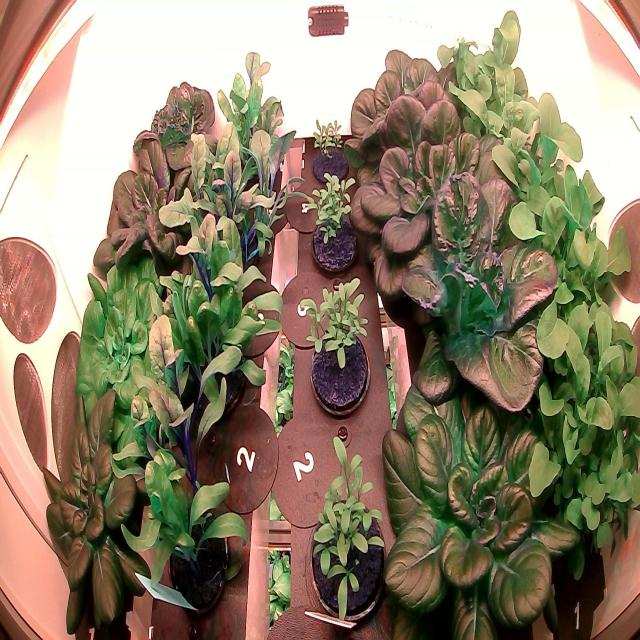Ready: (368, 317, 594, 640), (371, 154, 574, 430), (346, 80, 530, 313), (334, 36, 496, 205)
young: (34, 383, 172, 639), (86, 127, 214, 283), (70, 248, 175, 417), (126, 69, 228, 187)
